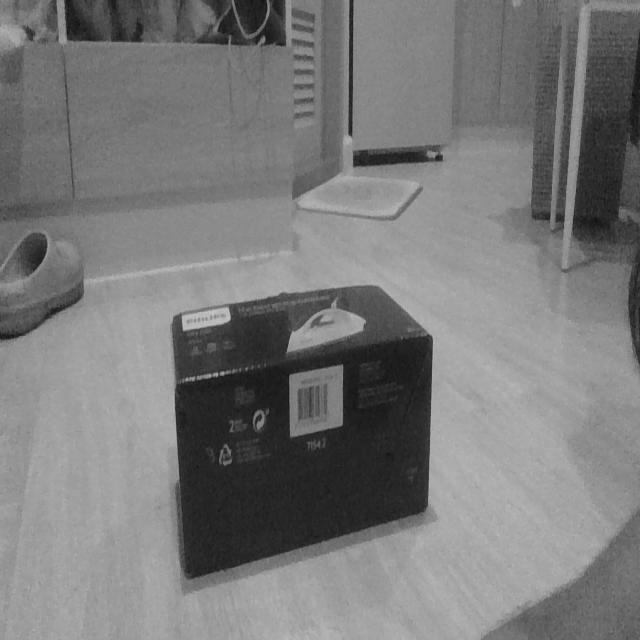IRON: (169, 280, 435, 582)
